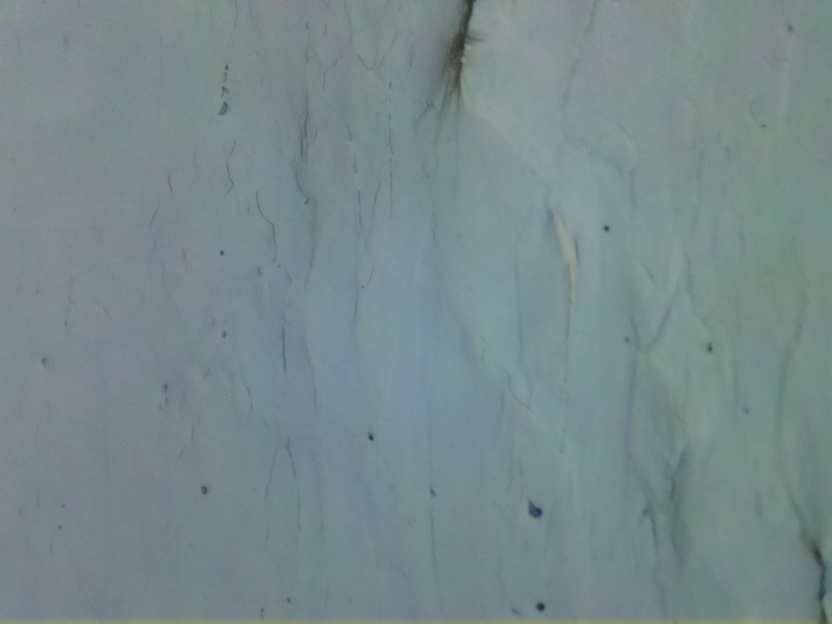crack: (437, 0, 485, 91)
